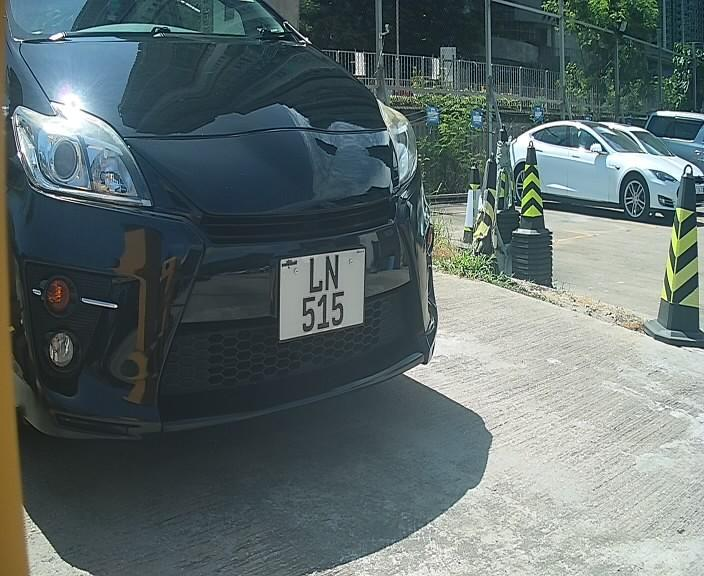privatecar: (13, 8, 437, 453)
